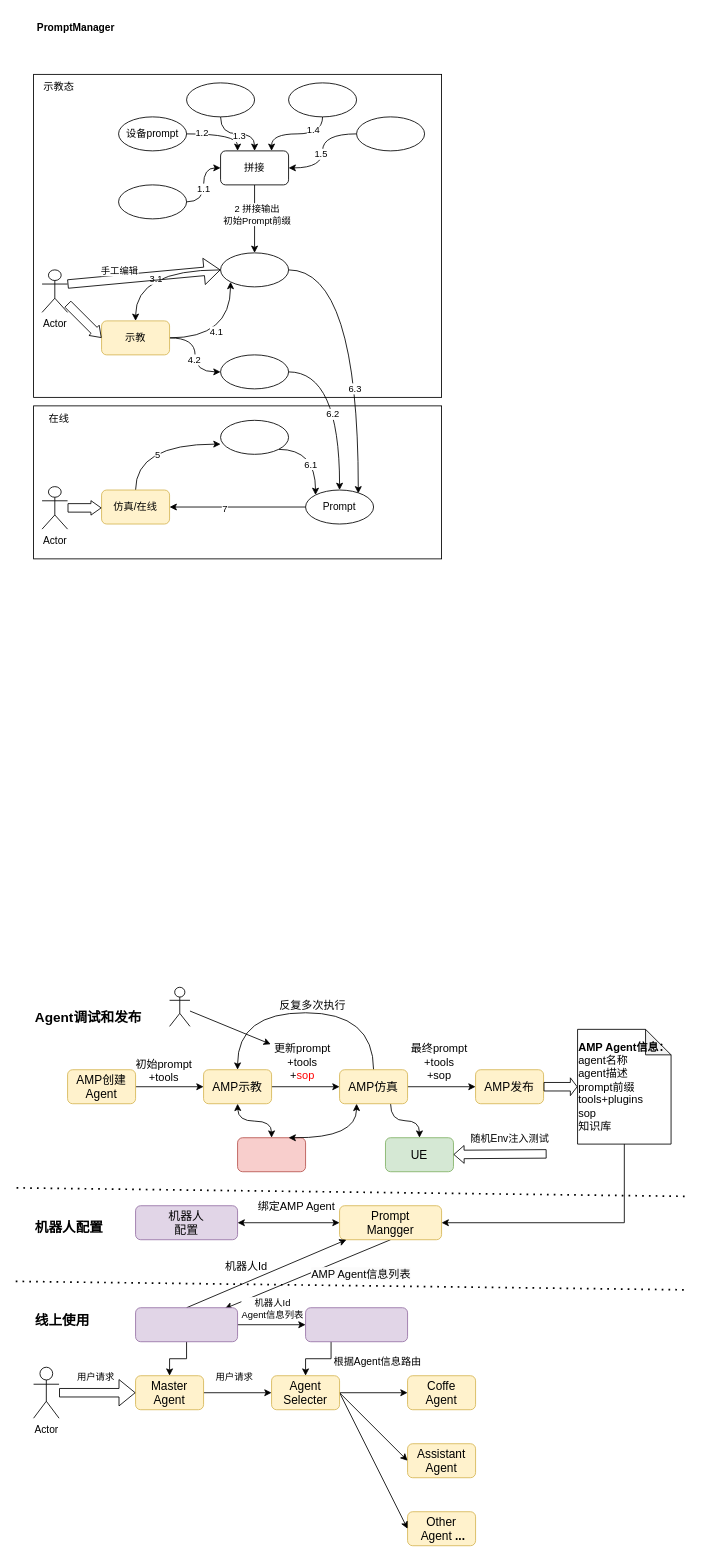
Some shapes in this 704 by 1561 pixel diagram are drawn without their labels. Each missing label, with the centre of its shape:
Env: point (254, 436)
LLM: point (271, 1154)
Prompt Enginer: point (179, 1006)
Prompt Prefix: point (254, 269)
Sop: point (254, 371)
业务prompt: point (220, 99)
具身技能: point (322, 99)
场景prompt: point (152, 201)
插件: point (390, 133)
机器人 初始化: point (186, 1324)
运行时记忆: point (356, 1324)
